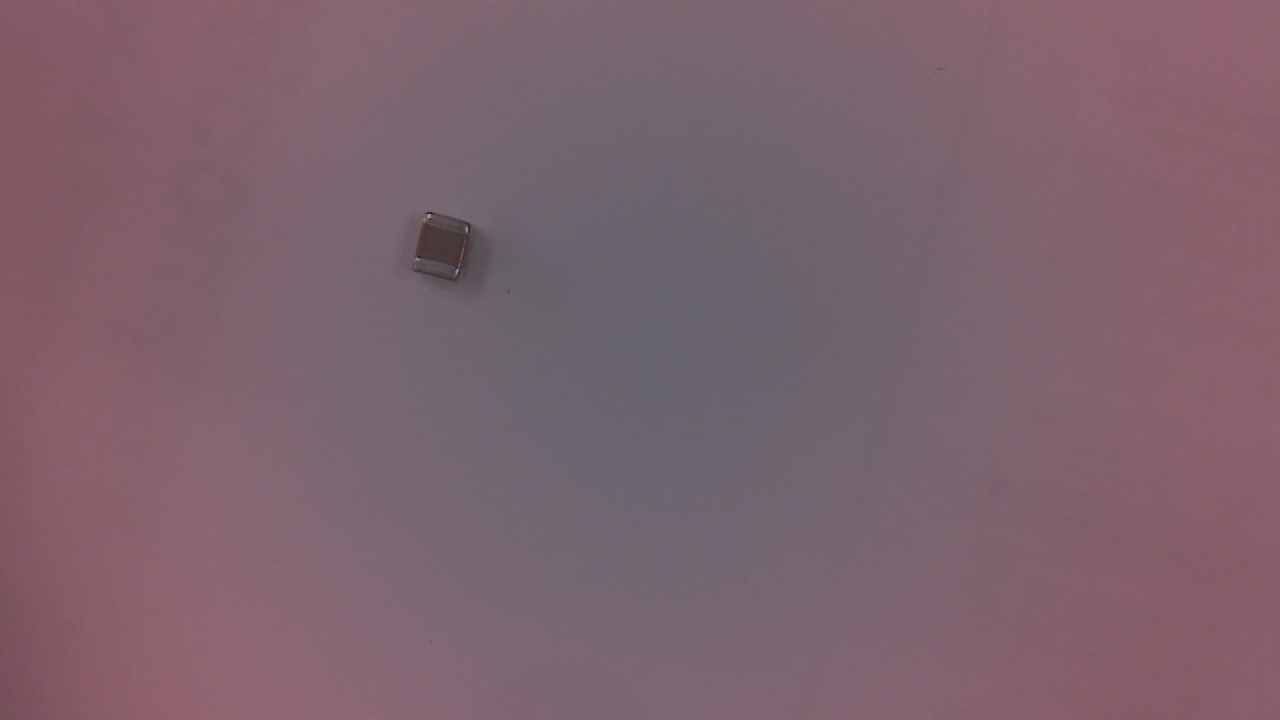Condensator: (414, 218, 477, 286)
